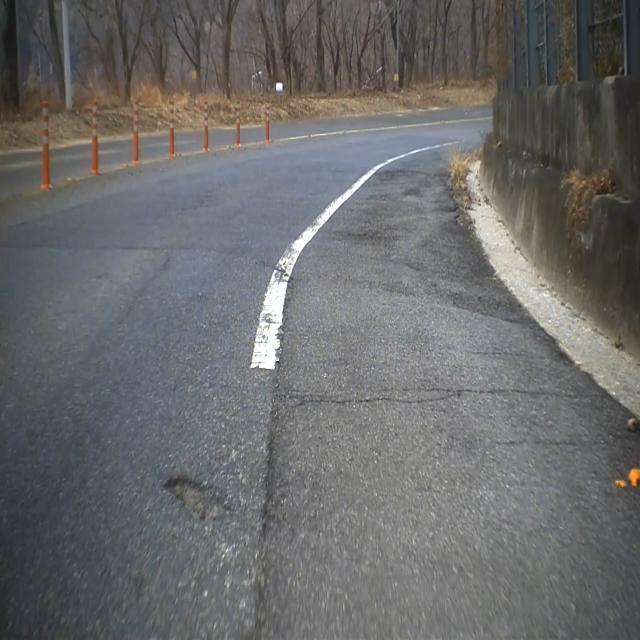pothole: (165, 461, 230, 536)
